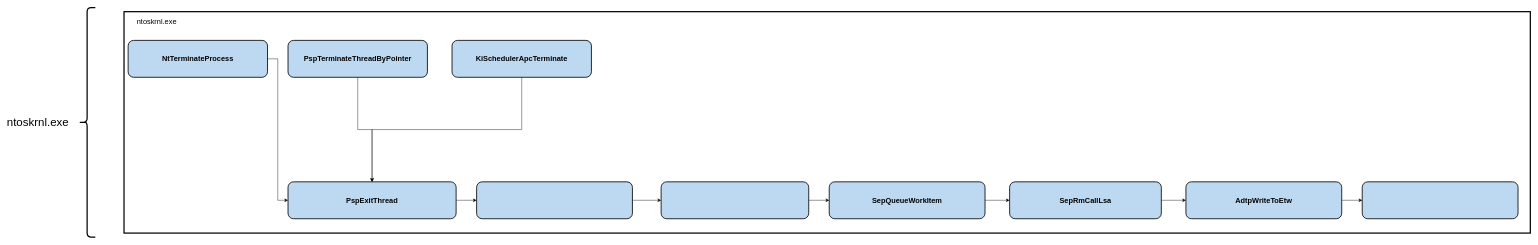
Some shapes in this 1538 by 245 pixel diagram are drawn without their labels. The box of each missing label's shape, as (x1, y1, x2, y2) in pixels:
EtwWriteKMSecurityEvent: (1362, 181, 1518, 219)
SeAuditProcessExit: (476, 181, 633, 219)
SepAdtLogAuditRecord: (661, 181, 809, 219)
